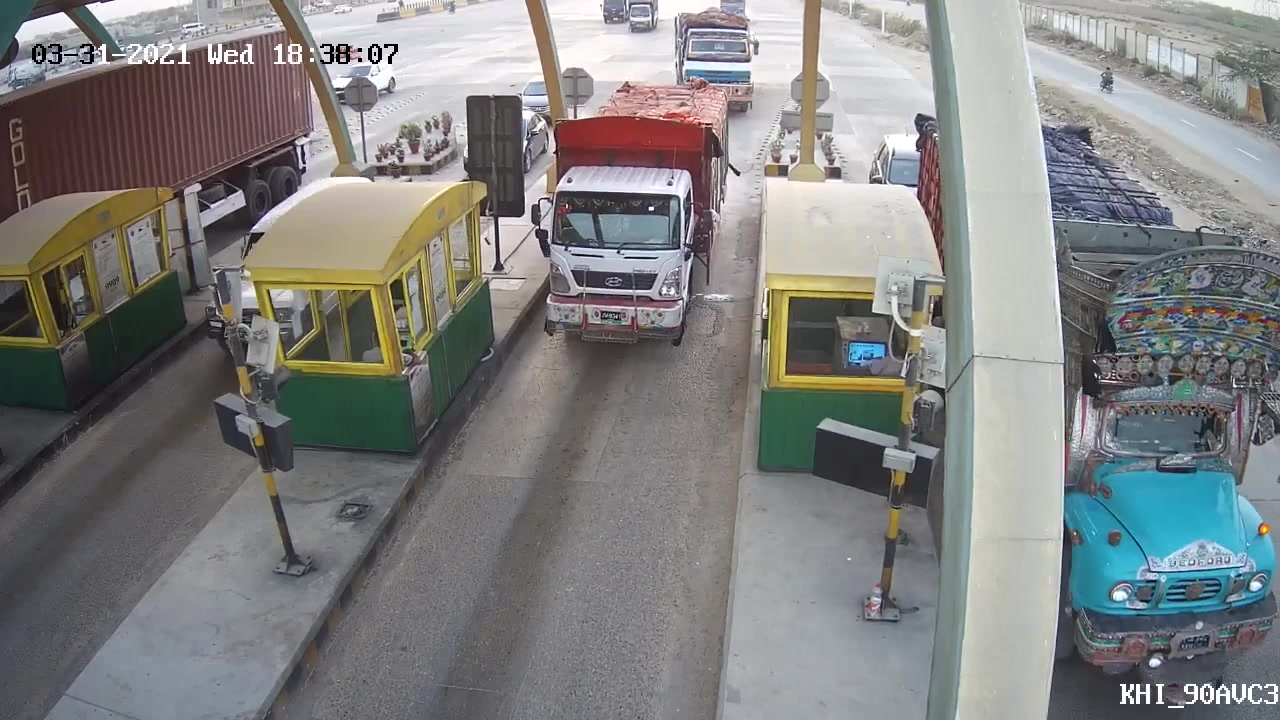F5: (524, 74, 737, 354)
